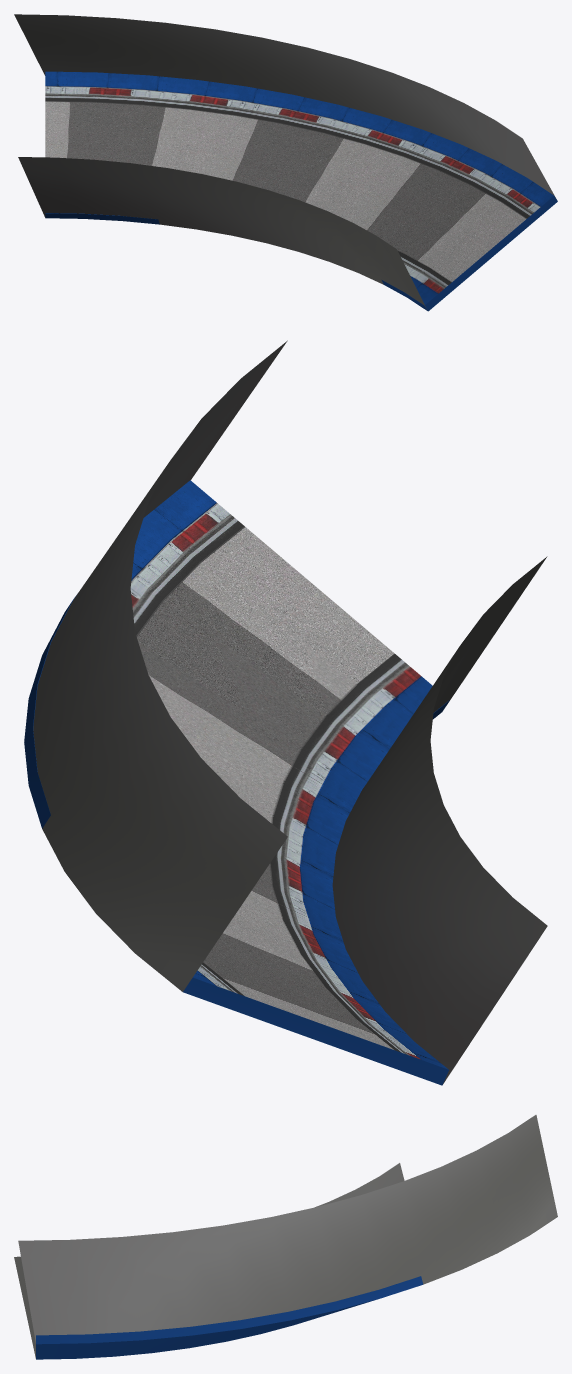
3 renders of one model, top to bottom at view 1: azimuth 30°, elevation 25°; view 2: azimuth 150°, elevation 25°; view 3: azimuth 270°, elevation 25°, orthographic. The views are drawn at different scales.
Parts seen in each view (by area): view 1: polySurface2, colide; view 2: colide, polySurface2; view 3: colide, polySurface2.
Part boxes in pixels (box(x1,y1,x2,y2)): polySurface2: box(45, 71, 557, 311); colide: box(14, 14, 556, 308); colide: box(33, 340, 547, 1084); polySurface2: box(24, 480, 449, 1085); colide: box(14, 1115, 557, 1358); polySurface2: box(36, 1276, 423, 1359).
Bounding box in the file's own units: 46233 × 19393 × 59206.
